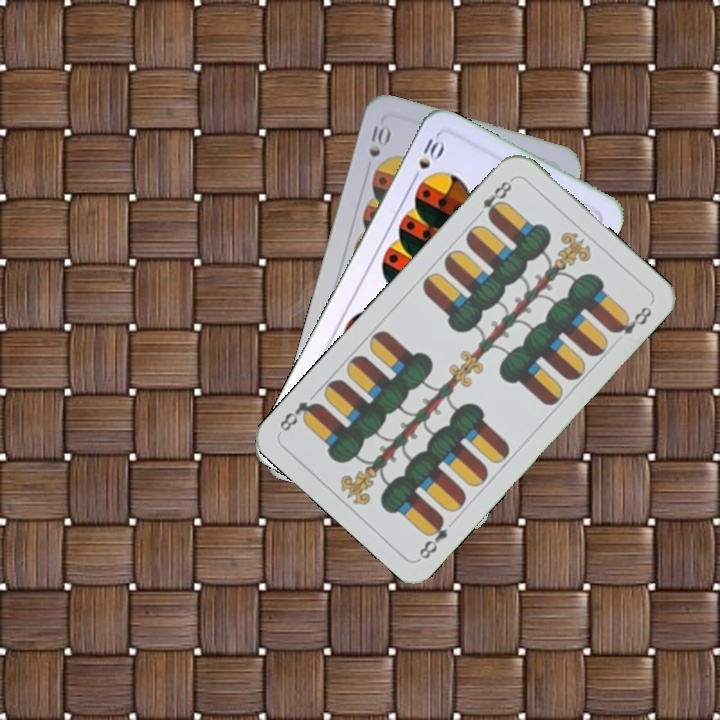E8: (478, 174, 516, 222), (415, 512, 451, 562)
S10: (407, 131, 447, 186), (364, 119, 393, 160)
